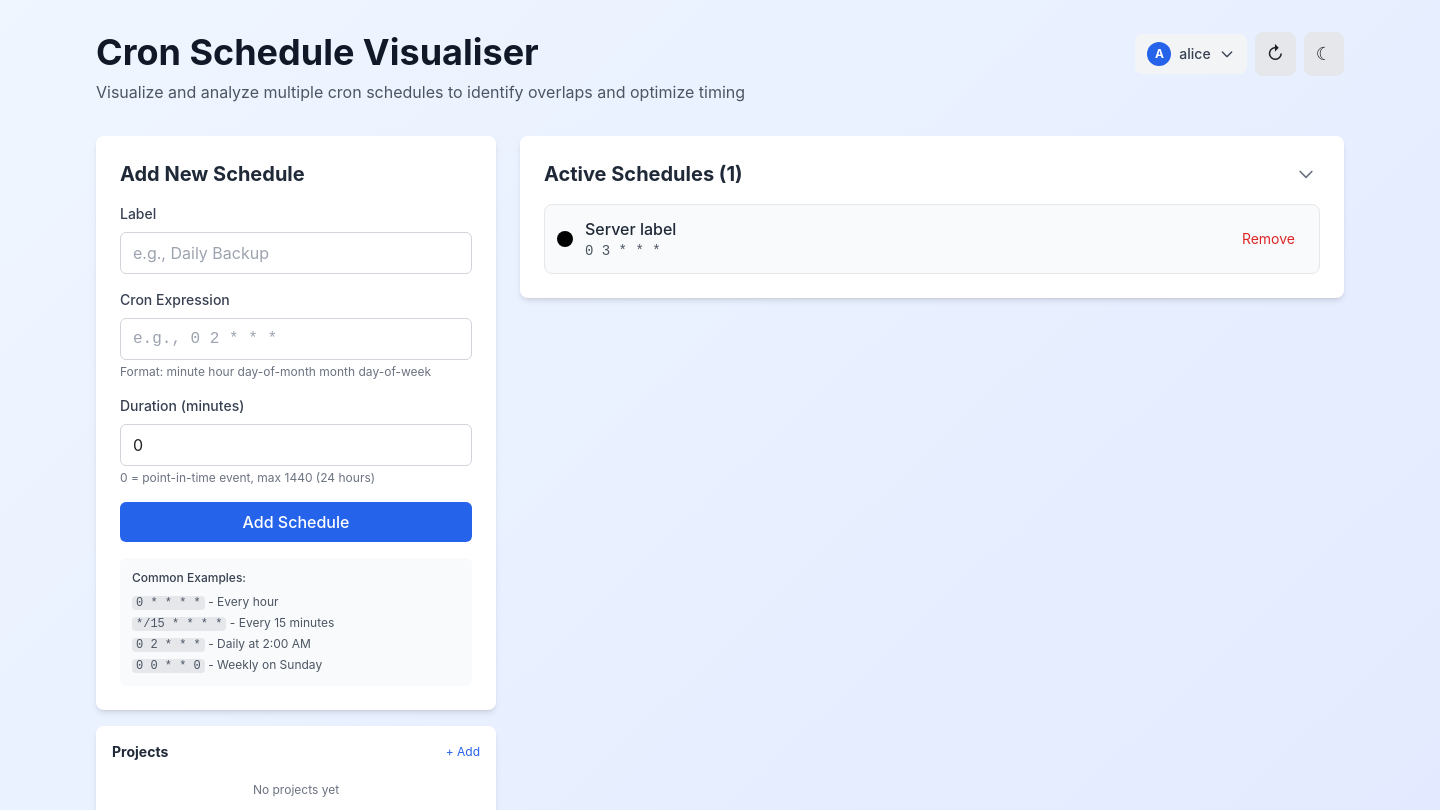
it: App (sessions and server data) › signed in › reports a rejected change and reloads the server data
Click the text titled "Click to rename".
click(631, 229)  # box [585, 219, 676, 239]
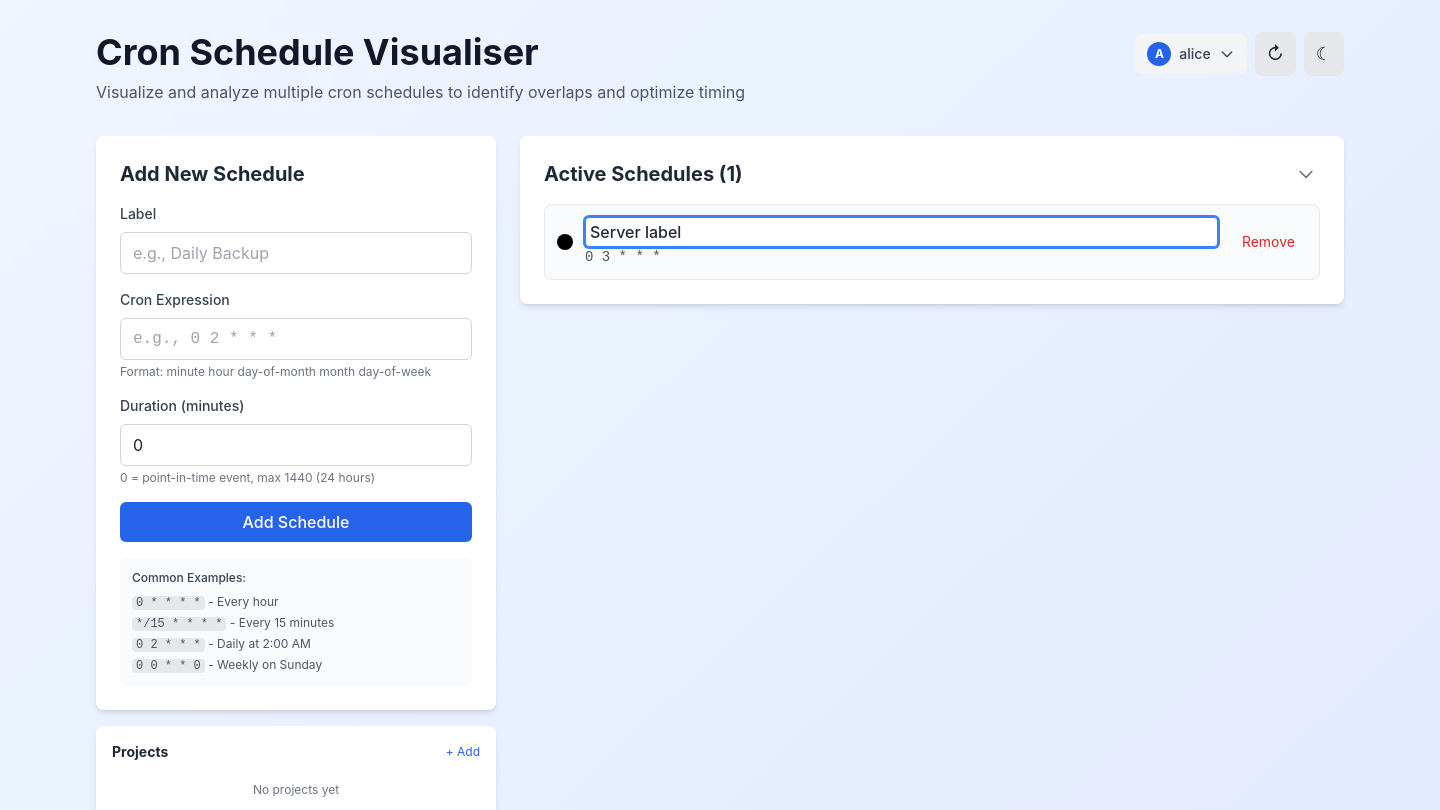
Replace the text in the field showing "Server label" with "Local label" at (901, 232), box [585, 217, 1218, 247]
Then press Enter
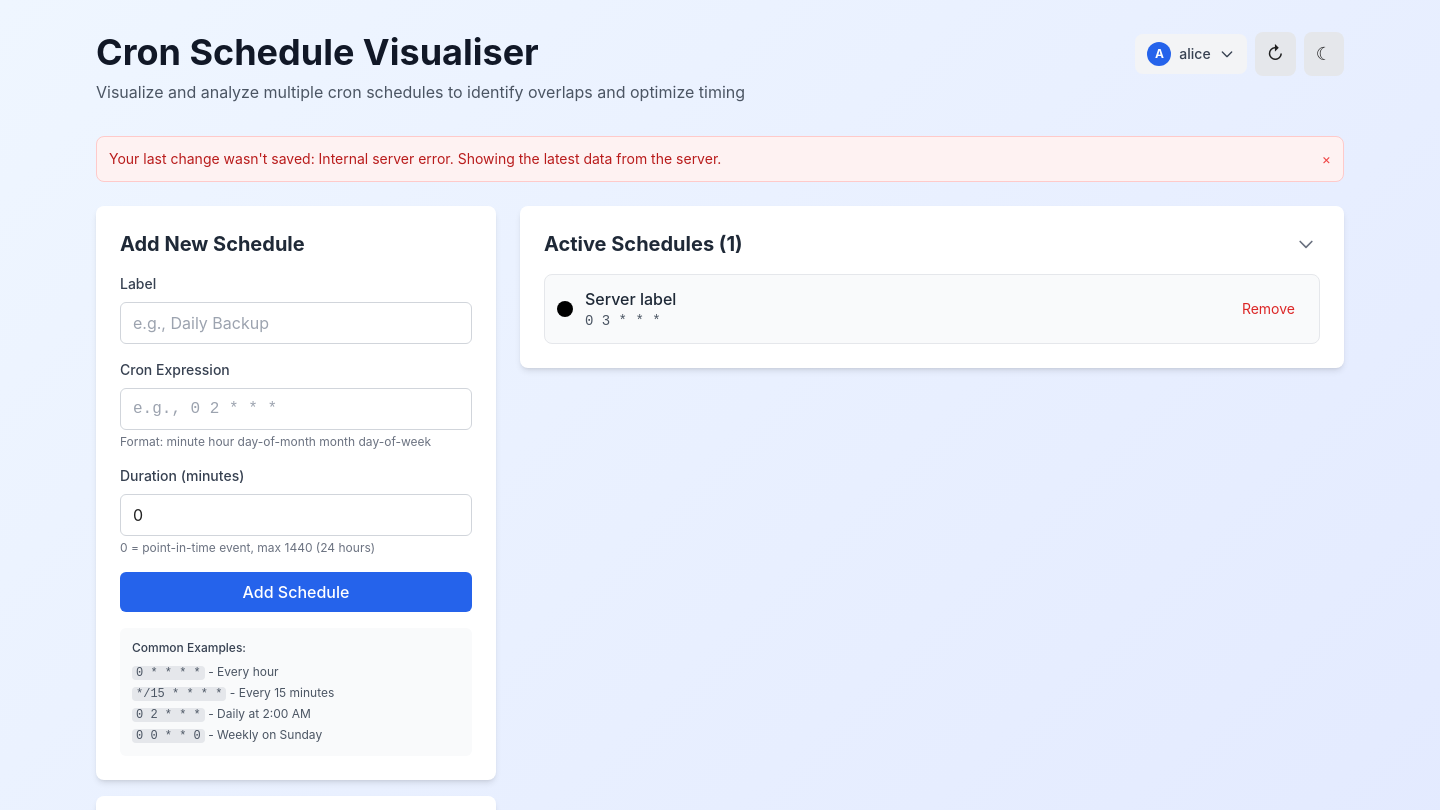
Result: the message shows "Your last change wasn't saved: Internal server error" at [96, 136, 1344, 182]
Result: the text "Server label" is shown at [585, 289, 676, 309]
